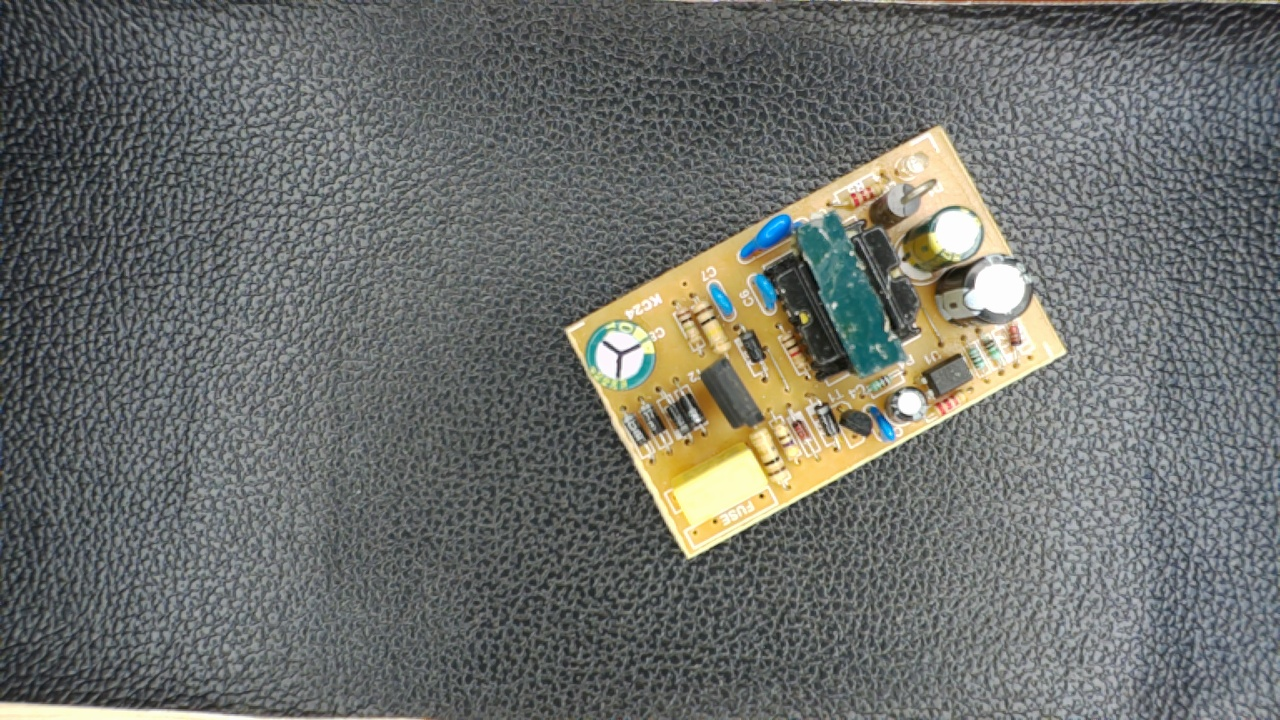hv_capacitor: (581, 323, 660, 393)
mov: (732, 212, 806, 261)
optocoupler: (915, 354, 974, 399)
